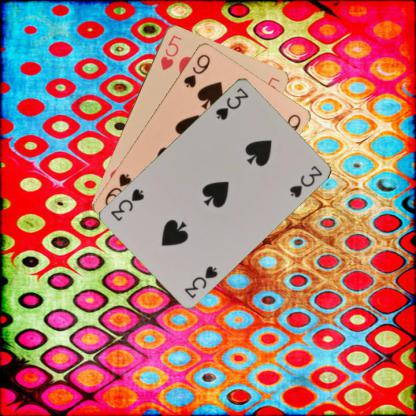3s: (212, 84, 250, 122), (181, 262, 219, 300)
5h: (157, 32, 183, 72)
9s: (181, 51, 211, 89)
